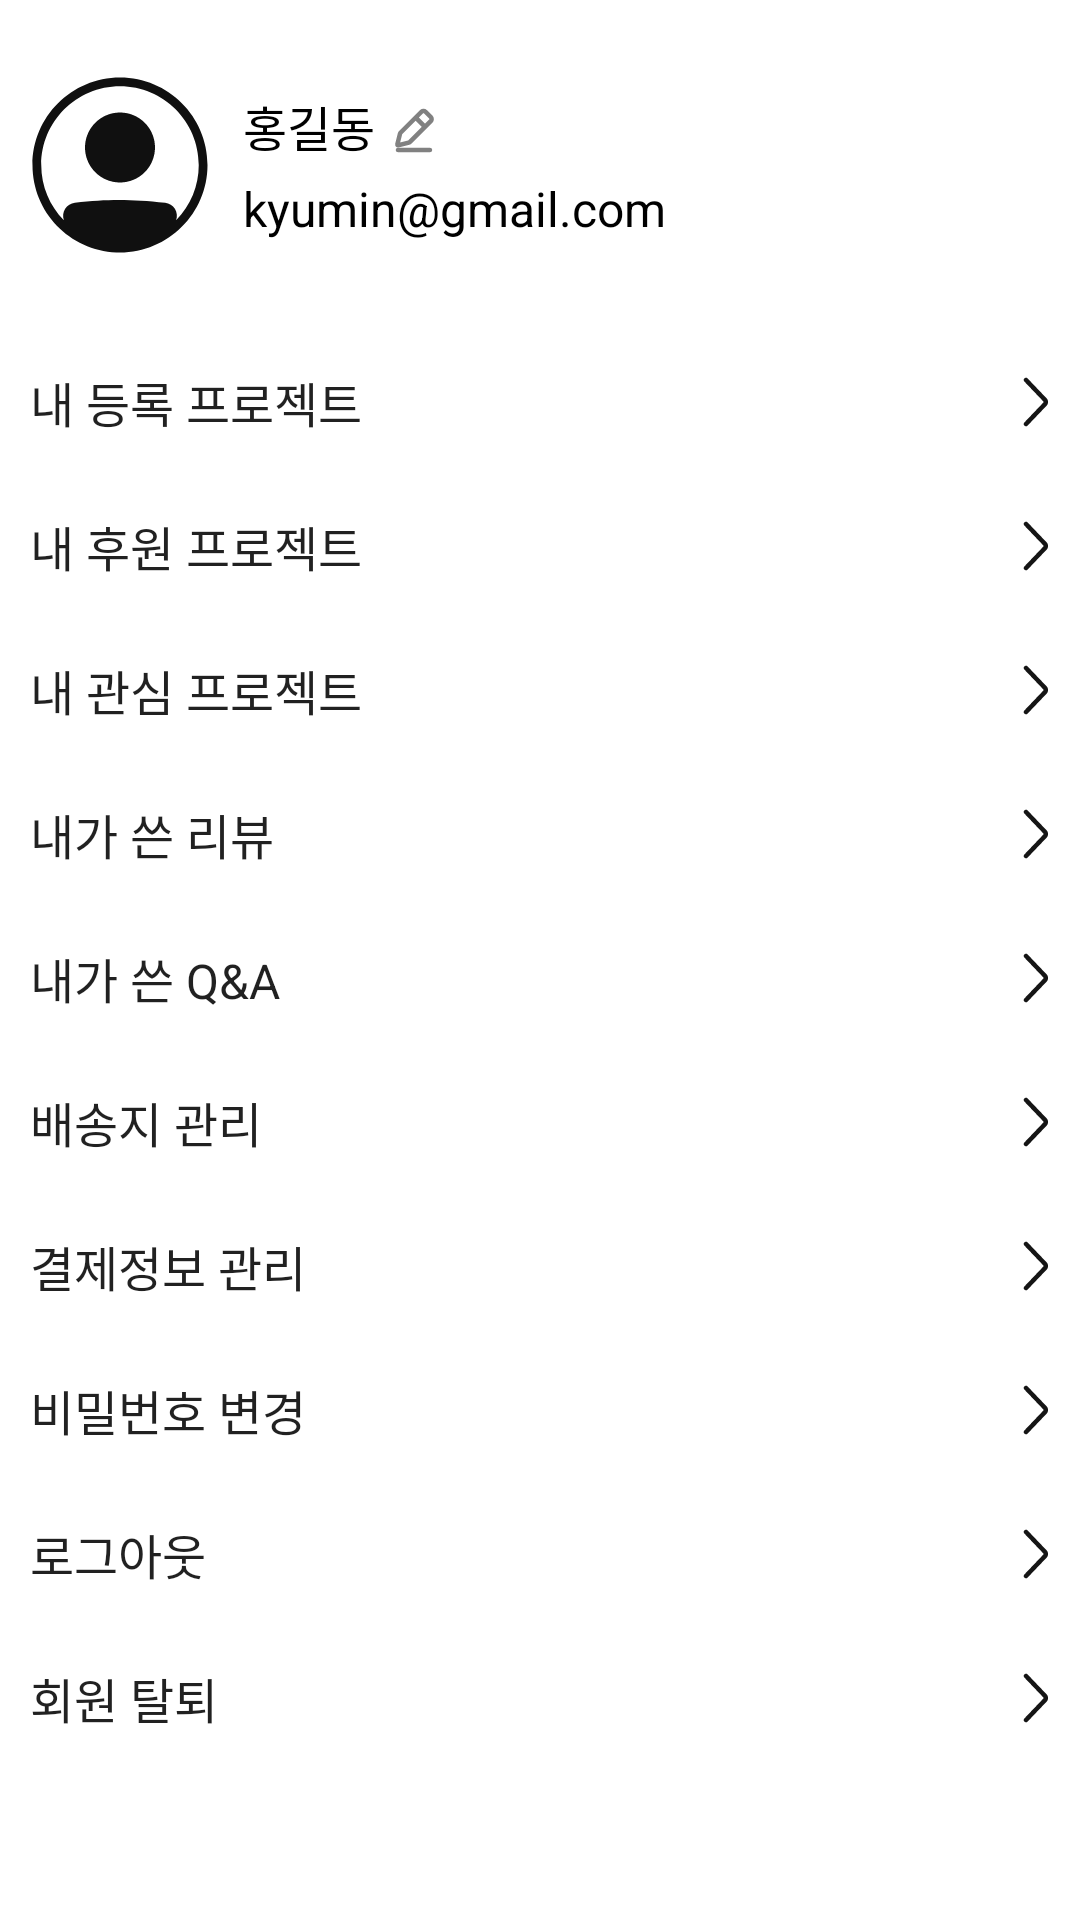

Where icons sit on this 1080x1920 app screen, as bbox=(x1, y1, x2, y2):
page edit: bbox=(395, 108, 434, 153)
